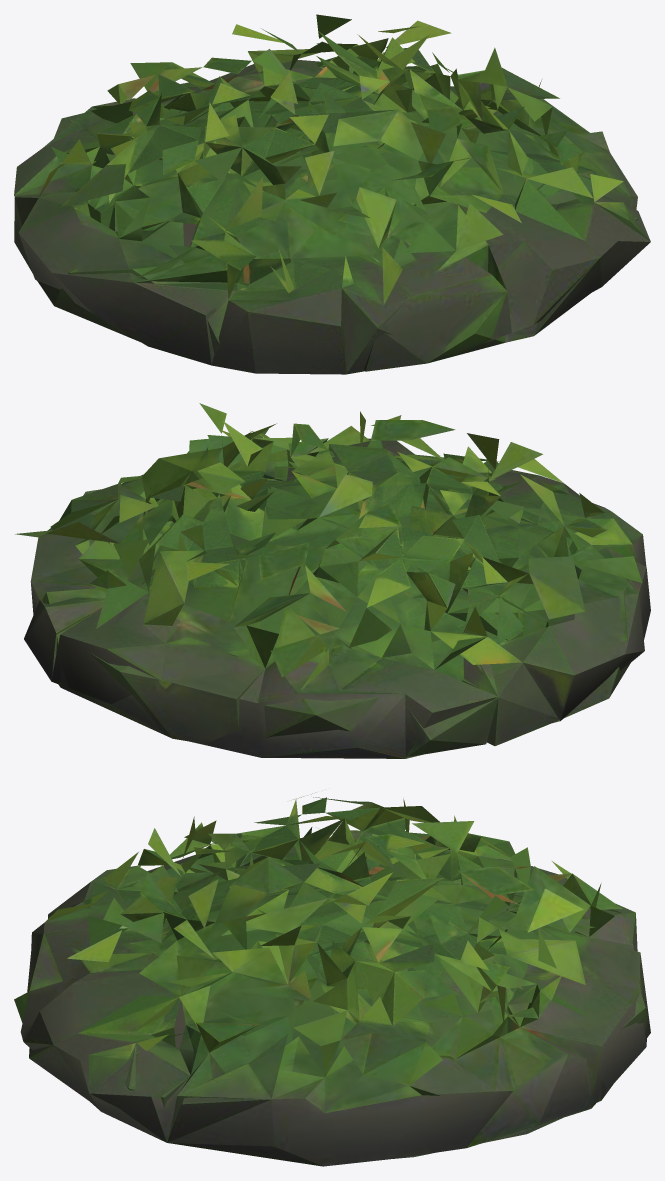
File: plantClump.glb
The picture shows the model from 3 angles, top to bottom: view 1: azimuth 30°, elevation 25°; view 2: azimuth 150°, elevation 25°; view 3: azimuth 270°, elevation 25°; orthographic projection. The views are drawn at different scales.
Bounding box in the file's own units: 1.84 × 0.5831 × 1.77.
1 material, 1 textured.
